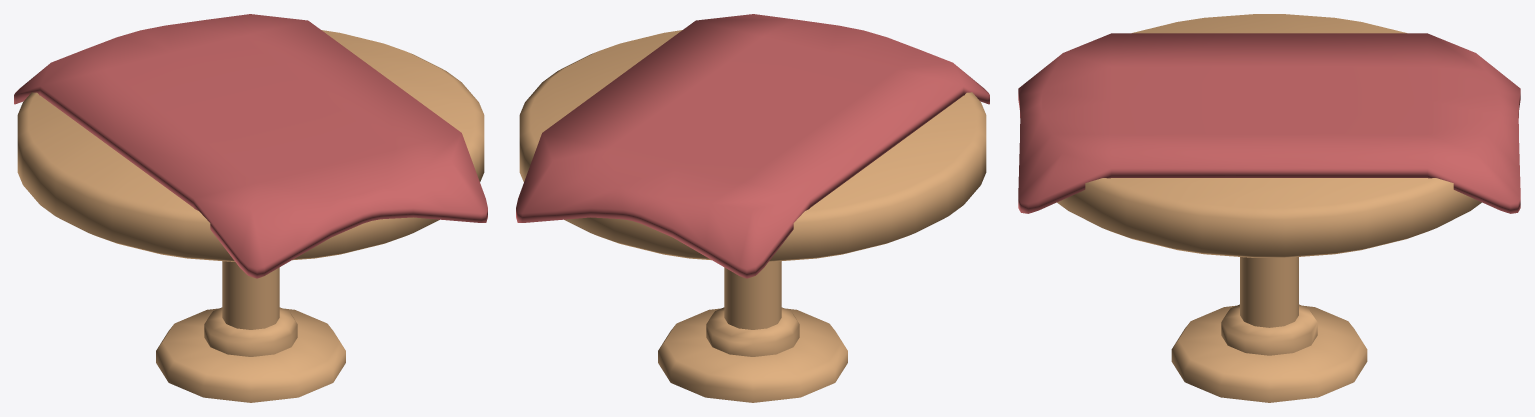
The model's file is table.fbx.
3 views of the same model, side by side, from view 1: azimuth 30°, elevation 25°; view 2: azimuth 150°, elevation 25°; view 3: azimuth 270°, elevation 25° (orthographic). The views are drawn at different scales.
Visible parts, largest first — view 1: table.001; view 2: table.001; view 3: table.001.
Boxes of the visible parts, x1,y1,x2,y2 form: table.001: (14, 14, 487, 402); table.001: (516, 14, 989, 402); table.001: (1018, 14, 1520, 402).
Bounding box in the file's own units: 146 × 86.86 × 152.
